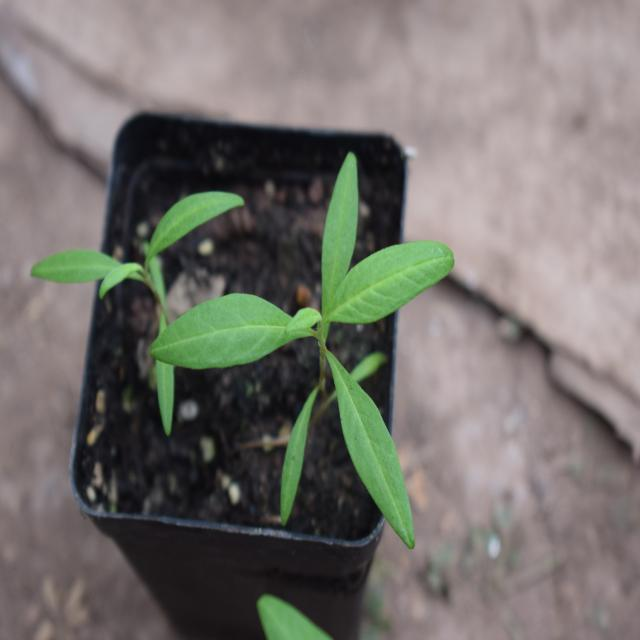white_smart_weed: (174, 175, 465, 538)
